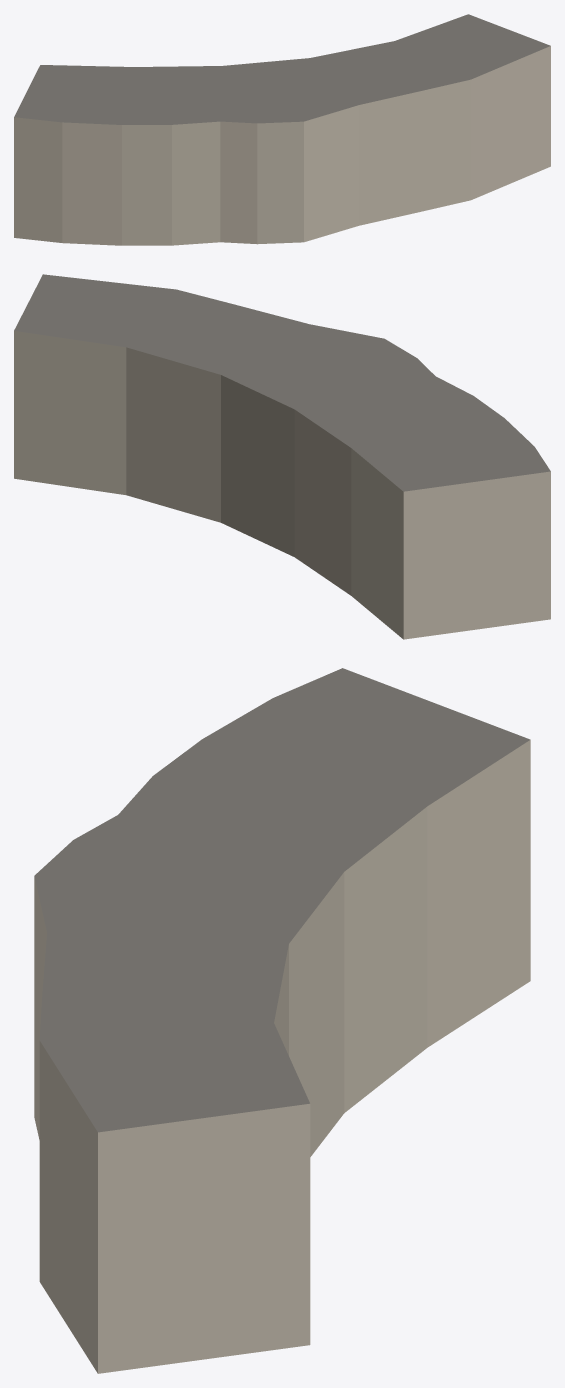
3 views of the same model, one above another, from view 1: azimuth 30°, elevation 25°; view 2: azimuth 150°, elevation 25°; view 3: azimuth 270°, elevation 25° (orthographic). The views are drawn at different scales.
Visible parts, largest first — view 1: HP-w1196661445; view 2: HP-w1196661445; view 3: HP-w1196661445.
Part boxes in pixels (x1,y1,x2,y2): HP-w1196661445: (14,14,550,245); HP-w1196661445: (14,274,550,639); HP-w1196661445: (34,668,530,1373).
Size of the model in its own units: 74.25 by 18 by 33.54.
